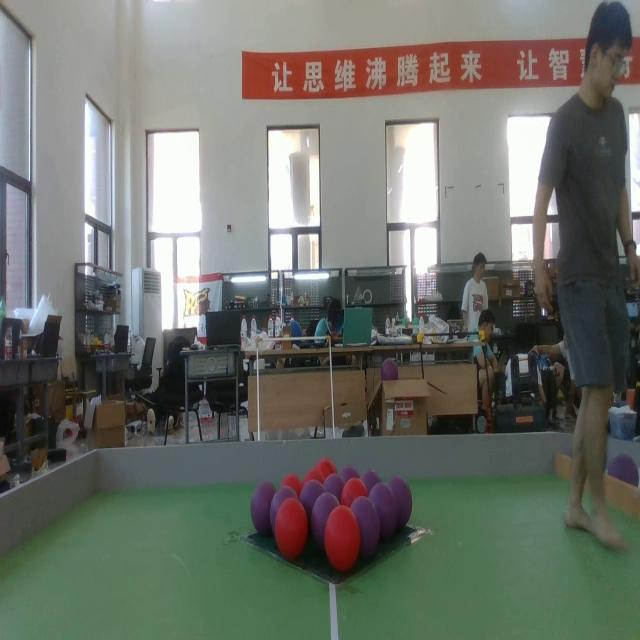invalid: (349, 494, 378, 561), (312, 492, 341, 548), (251, 482, 281, 535), (389, 474, 413, 536), (369, 485, 397, 536), (610, 452, 640, 488)
red: (326, 502, 361, 572), (274, 497, 307, 560), (342, 475, 368, 506), (304, 470, 325, 491), (282, 477, 300, 494), (318, 456, 334, 473)
